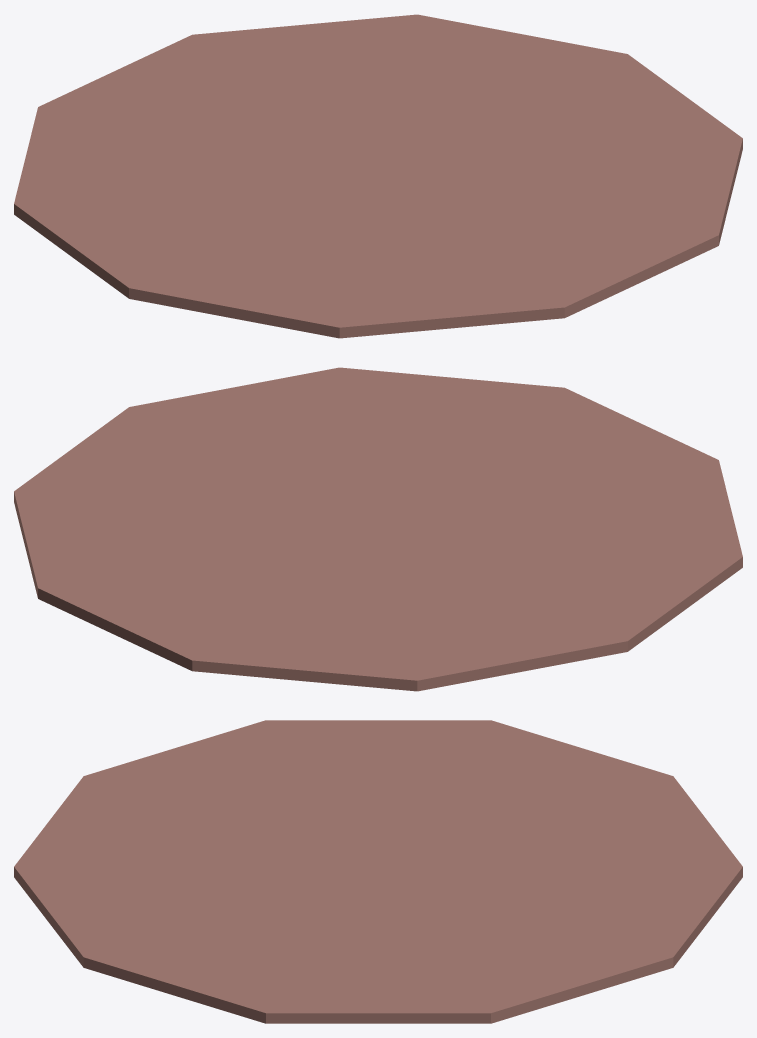
The model's file is Arena.fbx.
3 views of the same model, one above another, from view 1: azimuth 30°, elevation 25°; view 2: azimuth 150°, elevation 25°; view 3: azimuth 270°, elevation 25° (orthographic). The views are drawn at different scales.
Visible parts, largest first — view 1: Arena; view 2: Arena; view 3: Arena.
Boxes of the visible parts, x1,y1,x2,y2 form: Arena: (14, 14, 742, 338); Arena: (14, 367, 742, 691); Arena: (14, 720, 742, 1023).
Bounding box in the file's own units: 6645 × 111 × 6987.
